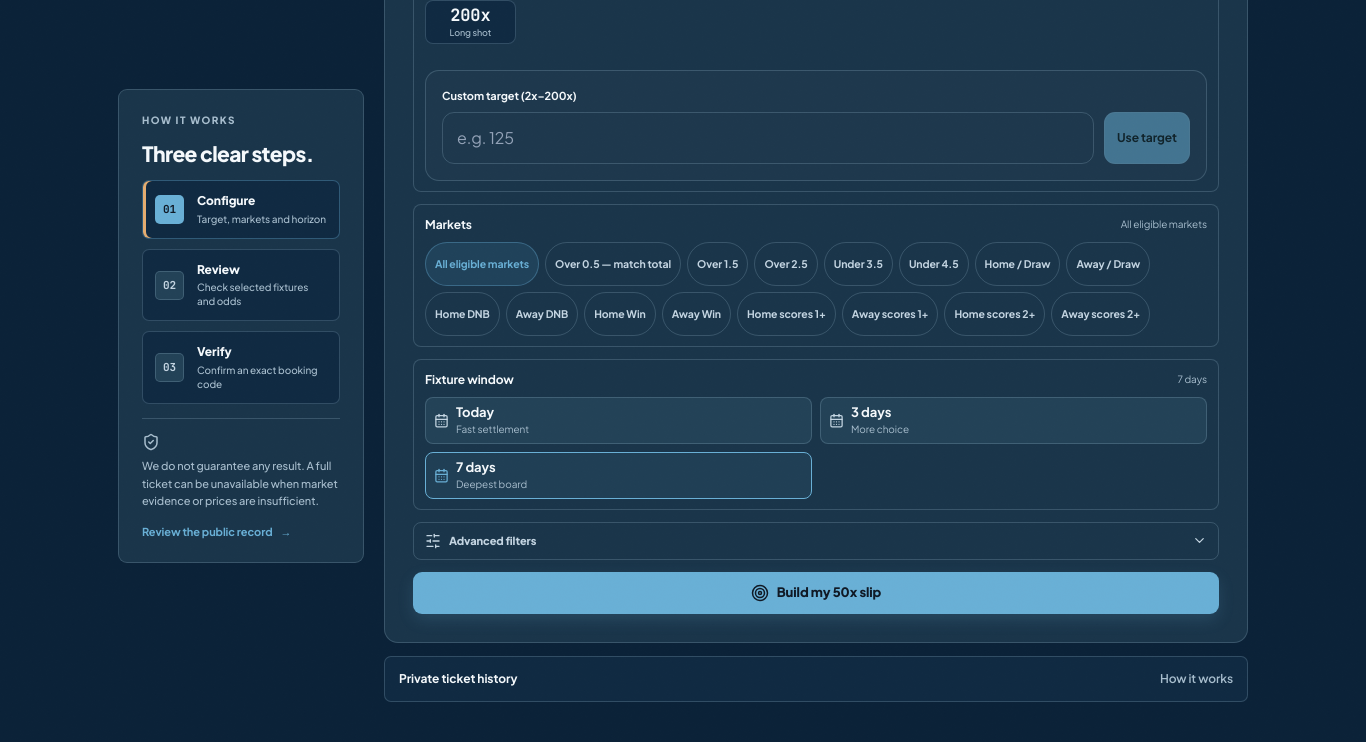
it: explains an actively started board refresh as a controlled retry state
The width and height of the screenshot is (1366, 742).
(page scrolled)
Click the button "Build my 50x slip" at (816, 592), box 413,572 -> 1219,614
(page scrolled)
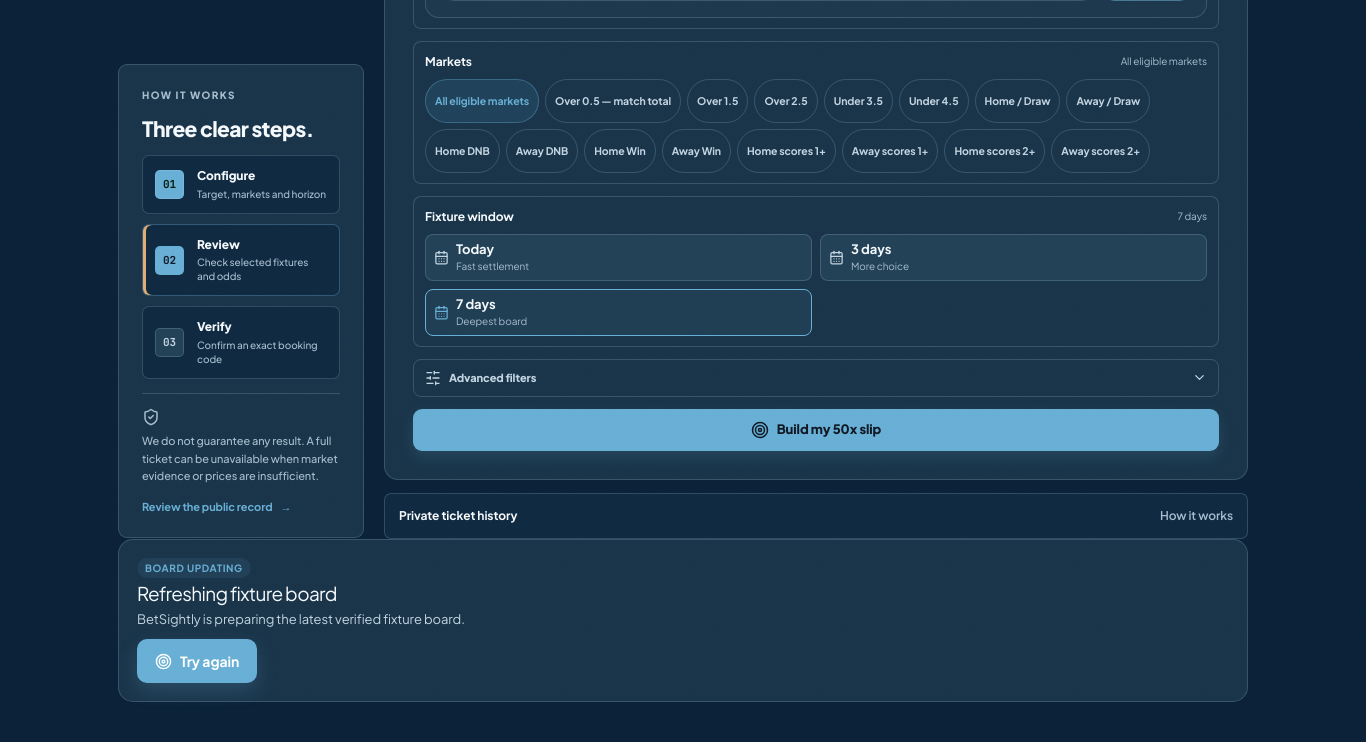
Expected: the heading "Refreshing fixture board" is shown, 137,580 -> 337,604
Expected: the text "BetSightly is preparing the latest verified fixture board." is shown, 137,611 -> 465,627
